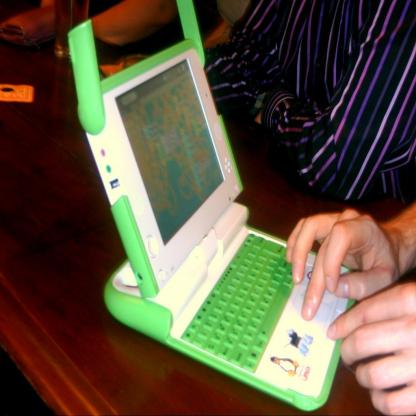board: (66, 0, 355, 410)
